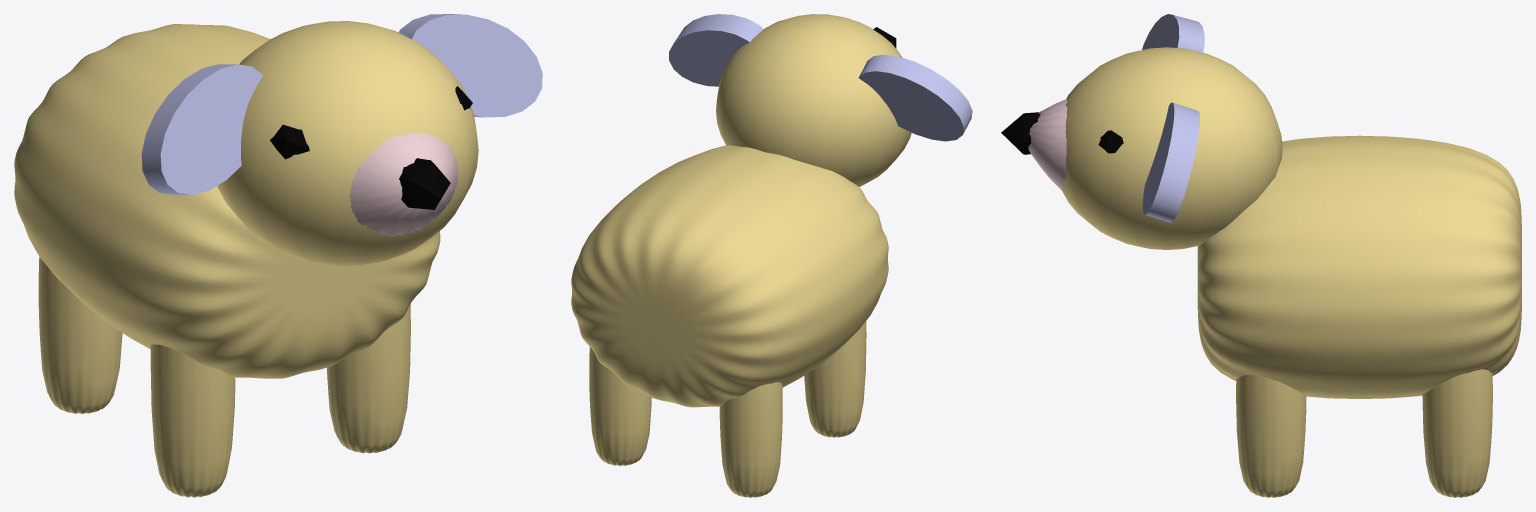
The model's file is dog.fbx.
3 renders of one model, left to right at view 1: azimuth 30°, elevation 25°; view 2: azimuth 150°, elevation 25°; view 3: azimuth 270°, elevation 25°, orthographic. The views are drawn at different scales.
Visible parts, largest first — view 1: pCylinder14, pSphere2, pCylinder17, pCylinder16, pCylinder12, pCylinder15, pCone5, pPlatonic6, pPlatonic5; view 2: pCylinder14, pSphere2, pCylinder12, pCylinder17, pCylinder13, pCylinder16; view 3: pCylinder14, pSphere2, pCylinder13, pCylinder15, pCylinder16, pCone5, pCylinder17, pPlatonic6.
Boxes of the visible parts, box(x1,y1,x2,y2) form: pCylinder14: box(14, 24, 440, 497); pSphere2: box(217, 21, 478, 266); pCylinder17: box(141, 64, 262, 194); pCylinder16: box(398, 14, 542, 117); pCylinder12: box(38, 257, 122, 413); pCylinder15: box(327, 304, 410, 453); pCone5: box(349, 132, 458, 236); pPlatonic6: box(399, 158, 450, 209); pPlatonic5: box(270, 124, 309, 159); pCylinder14: box(571, 145, 888, 437); pSphere2: box(716, 14, 911, 186); pCylinder12: box(719, 382, 782, 497); pCylinder17: box(858, 54, 972, 141); pCylinder13: box(589, 346, 651, 465); pCylinder16: box(669, 14, 763, 86); pCylinder14: box(1197, 135, 1521, 398); pSphere2: box(1061, 47, 1282, 249); pCylinder13: box(1422, 369, 1492, 497); pCylinder15: box(1236, 375, 1306, 497); pCylinder16: box(1142, 102, 1199, 222); pCone5: box(1028, 99, 1067, 190); pCylinder17: box(1142, 14, 1204, 52); pPlatonic6: box(1001, 112, 1040, 154).
Size of the model in its own units: 2.54 by 2.98 by 3.53.
